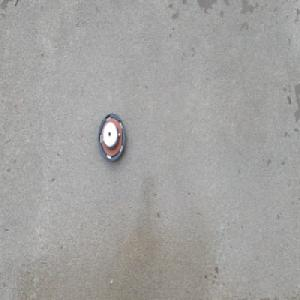FuelCap: (97, 111, 127, 164)
